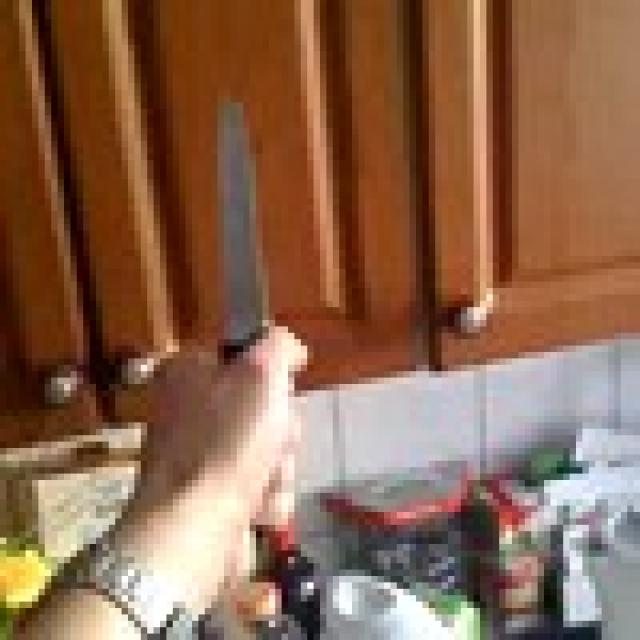Knife: (211, 102, 275, 365)
